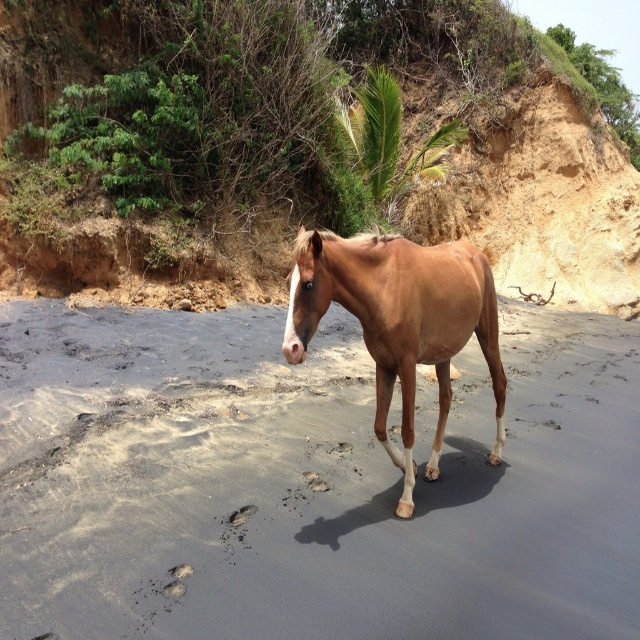Horse: (280, 223, 508, 521)
